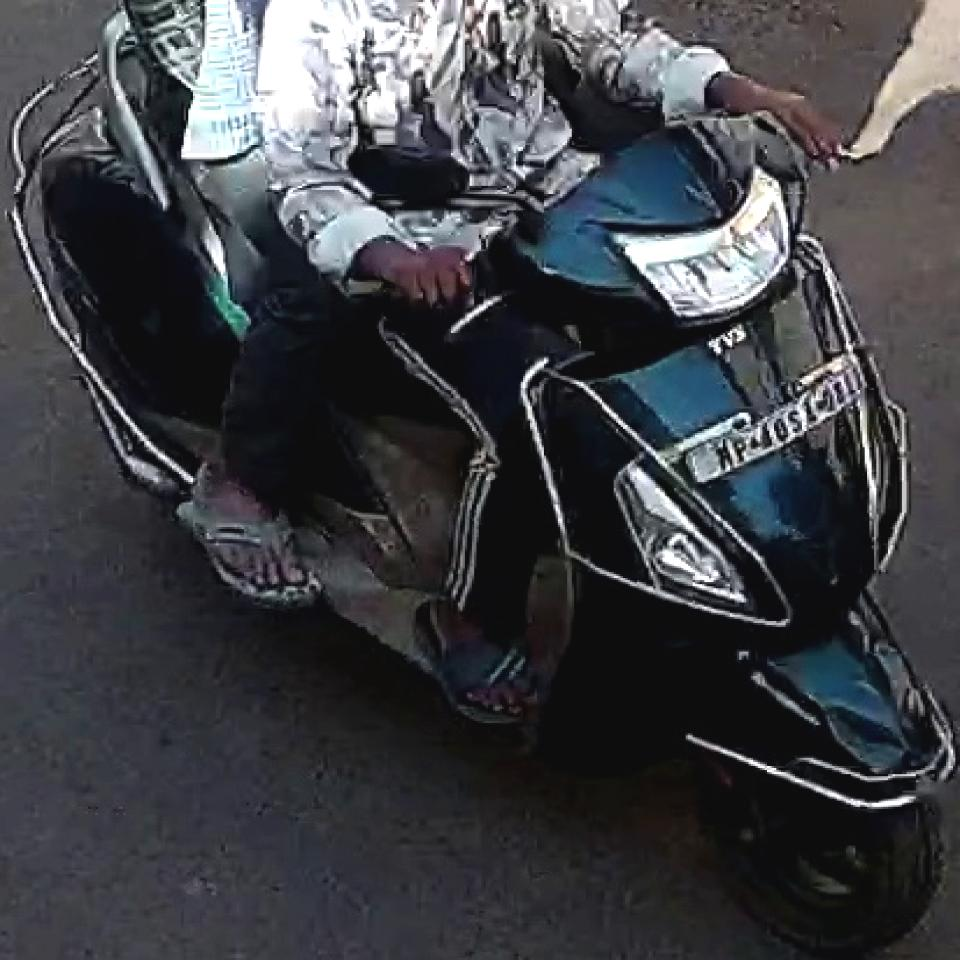head_light: (615, 160, 799, 320)
